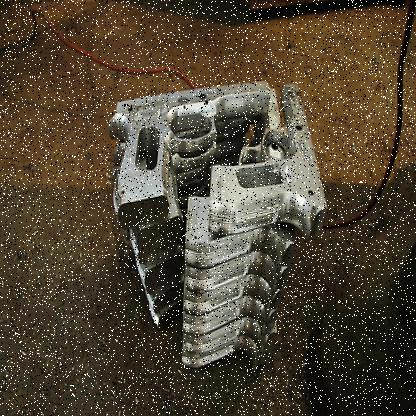pistol: (107, 77, 270, 230), (209, 81, 327, 239)
